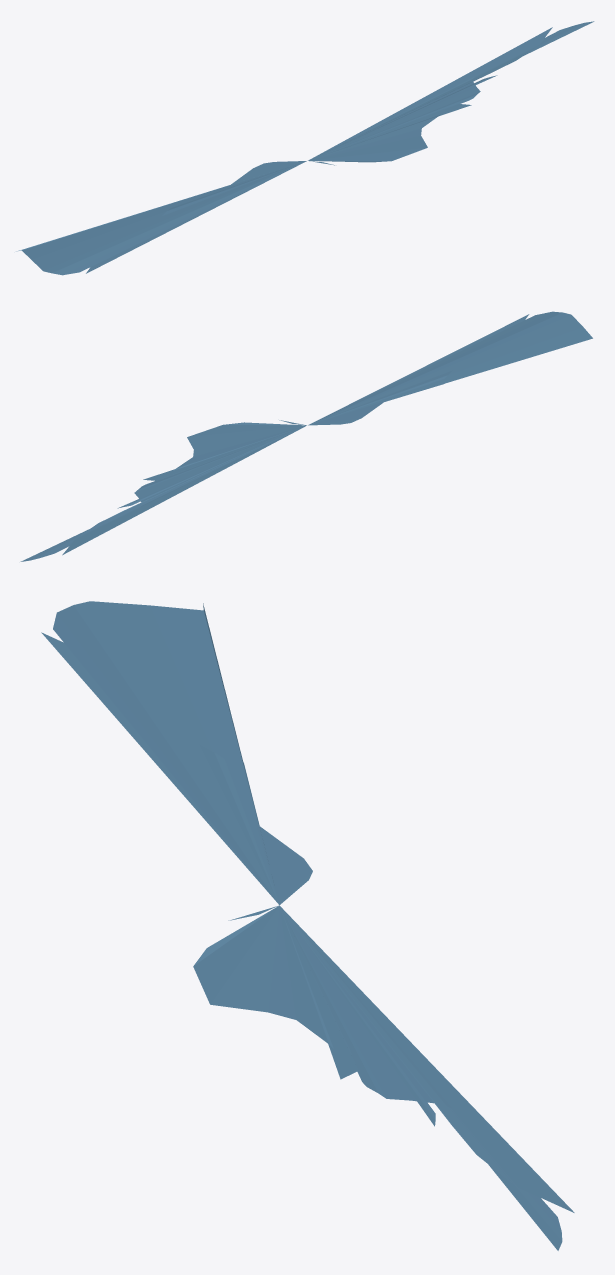
File: c_1626_17832_water.glb
The picture shows the model from 3 angles, top to bottom: view 1: azimuth 30°, elevation 25°; view 2: azimuth 210°, elevation 25°; view 3: azimuth 270°, elevation 25°; orthographic projection. The views are drawn at different scales.
Parts seen in each view (by area): view 1: geometry_0; view 2: geometry_0; view 3: geometry_0.
Part boxes in pixels (x1=…): geometry_0: x1=16, y1=21, x2=594, y2=275; geometry_0: x1=20, y1=311, x2=592, y2=561; geometry_0: x1=41, y1=601, x2=574, y2=1250.
Bounding box in the file's own units: 1281 × 5.77 × 443.
